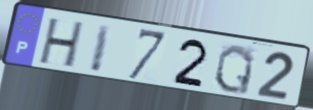2: (254, 51, 298, 103), (172, 37, 210, 89)
7: (126, 27, 169, 82)
H: (36, 17, 88, 71)
I: (87, 23, 114, 75)
Q: (212, 43, 257, 97)
